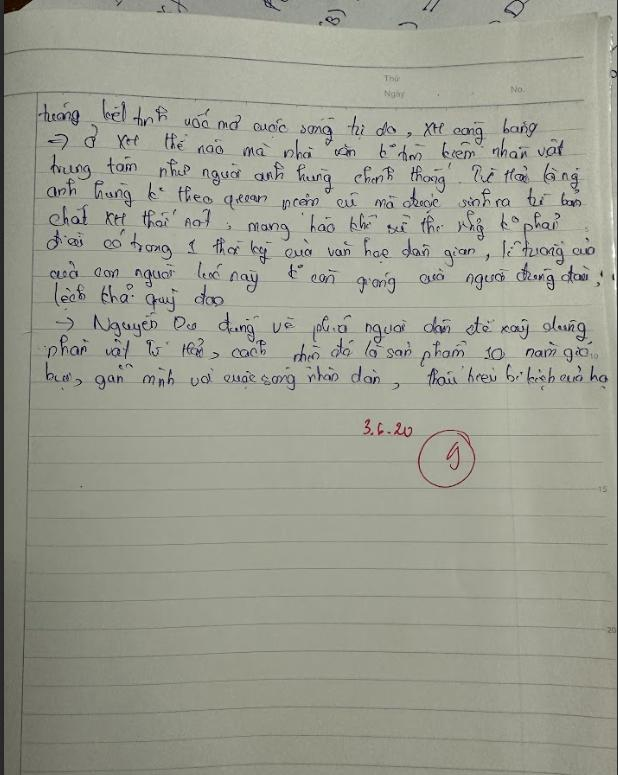text: (35, 95, 539, 145), (45, 201, 567, 245), (39, 360, 612, 400), (42, 154, 578, 195), (41, 227, 598, 266), (47, 262, 604, 300), (44, 176, 583, 215), (53, 307, 592, 345), (44, 338, 593, 375), (43, 131, 566, 163), (48, 281, 228, 316), (358, 415, 415, 443), (445, 440, 464, 477), (382, 88, 407, 103), (385, 70, 402, 83), (509, 84, 524, 93)
